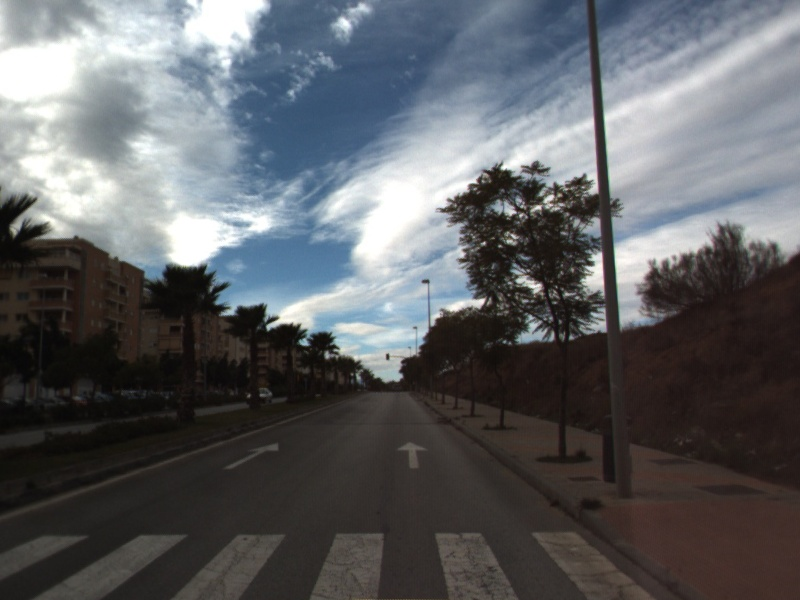STRAIGHT: (221, 440, 281, 472), (395, 439, 430, 470)
